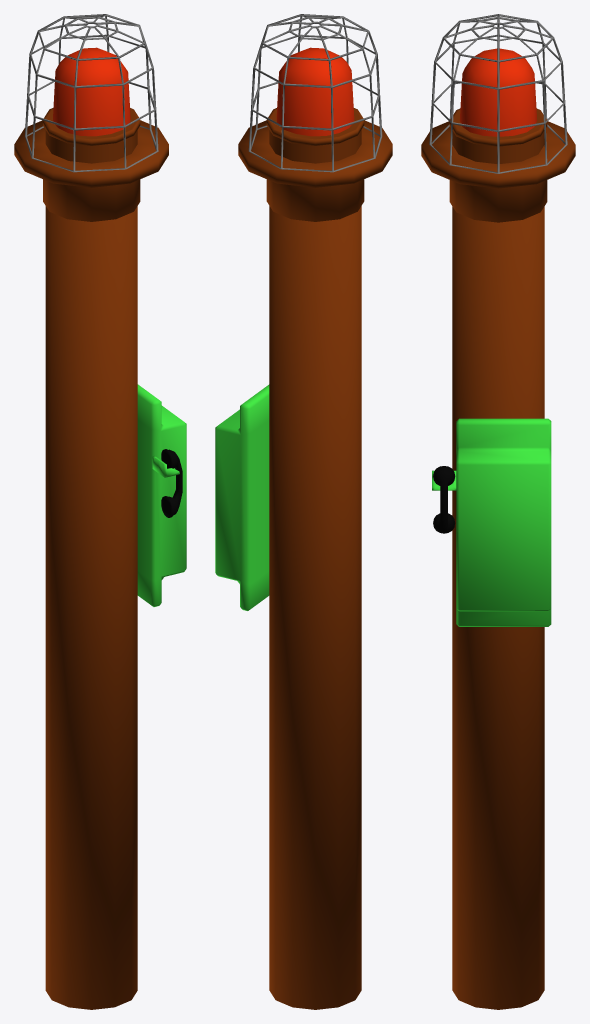
Rendered from Extraction.fbx.
3 renders of one model, left to right at view 1: azimuth 30°, elevation 25°; view 2: azimuth 150°, elevation 25°; view 3: azimuth 270°, elevation 25°, orthographic.
Parts seen in each view (by area): view 1: Pole, Connector, PhoneBox, Light, Grid, Phone; view 2: Pole, Connector, PhoneBox, Light, Grid; view 3: Pole, PhoneBox, Connector, Light, Grid, Phone.
Part boxes in pixels (x1,y1,x2,y2): Pole: [45, 206, 137, 1009]; Connector: [14, 108, 168, 221]; PhoneBox: [137, 384, 186, 606]; Light: [52, 47, 130, 136]; Grid: [24, 14, 158, 172]; Phone: [161, 449, 182, 517]; Pole: [269, 206, 361, 1009]; Connector: [238, 108, 392, 221]; PhoneBox: [215, 384, 269, 610]; Light: [276, 47, 354, 136]; Grid: [248, 14, 382, 172]; Pole: [452, 206, 544, 1009]; PhoneBox: [456, 418, 551, 626]; Connector: [421, 108, 575, 222]; Light: [459, 48, 537, 136]; Grid: [429, 14, 567, 173]; Phone: [433, 466, 455, 533].
Bounding box in the file's own units: 44.53 × 289 × 41.89.
